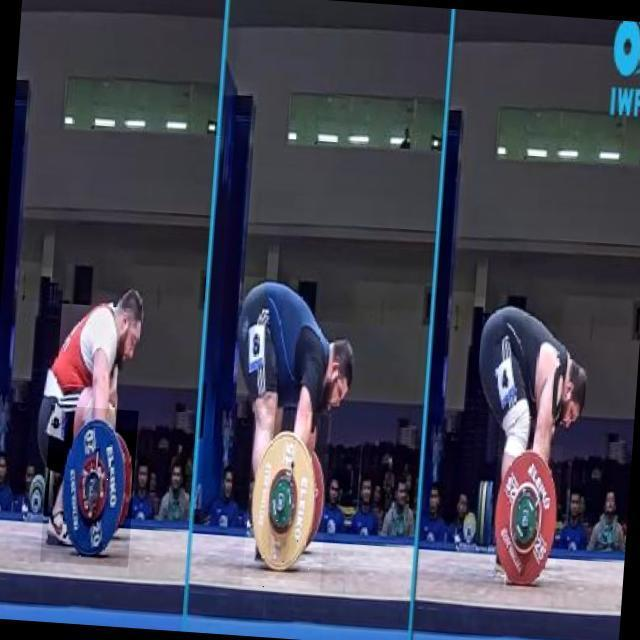barbell: (243, 409, 333, 593), (41, 406, 140, 569), (489, 443, 564, 593)
